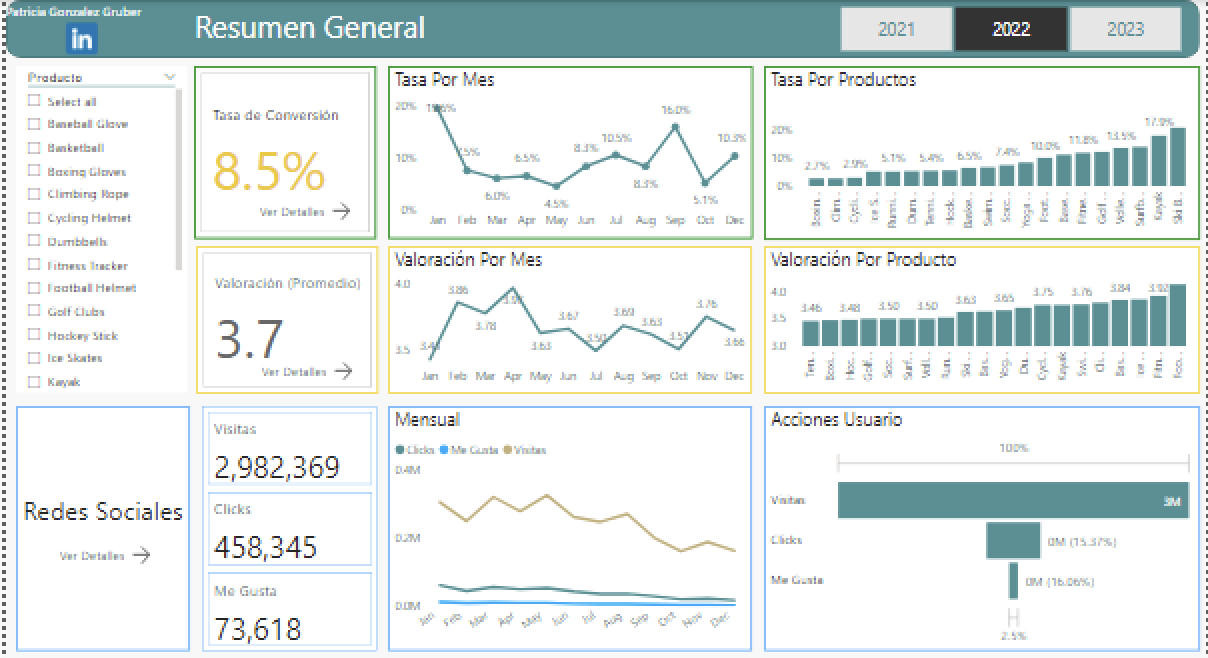

What the dashboard file says about the page in this screenshot:
{"tool":"powerbi","page":{"name":"General","canvas":[1280,720],"ordinal":0},"visuals":[{"type":"shape","box":[0,0,1275.1,61.8],"z":0},{"type":"slicer","fields":{"Values":["dim_products.ProductName"]},"box":[11,71,183.1,348.8],"z":1000},{"type":"cardVisual","fields":{"Data":["Measures Table.Convertion Rate"]},"box":[201.8,70.6,195.1,185],"z":2000},{"type":"cardVisual","fields":{"Data":["Measures Table.Average Rating"]},"box":[202,262.4,195.1,158],"z":3000},{"type":"cardVisual","fields":{"Data":["Measures Table.Views","Measures Table.Clicks","Measures Table.Likes"]},"box":[208.6,434,188.4,262.4],"z":4000},{"type":"slicer","fields":{"Values":["Calendar.Year"]},"box":[864.9,0,415.1,61.6],"z":5000},{"type":"lineChart","title":"Tasa Por Mes","fields":{"Y":["Measures Table.Convertion Rate"],"Category":["Calendar.MonthNameShort"]},"box":[408.7,70.6,390.2,185],"z":6000},{"type":"columnChart","title":"Tasa Por  Productos","fields":{"Category":["dim_products.ProductName"],"Y":["Measures Table.Convertion Rate"]},"box":[809.7,71,465.6,186.2],"z":7000},{"type":"funnel","title":"Acciones Usuario","fields":{"Y":["Measures Table.Views","Measures Table.Clicks","Measures Table.Likes"]},"box":[809,434,465.9,262.4],"z":8000},{"type":"lineChart","title":"Valoración Por  Mes","fields":{"Category":["Calendar.MonthNameShort"],"Y":["Measures Table.Average Rating"]},"box":[408.7,262.4,388.5,158.1],"z":9000},{"type":"lineChart","title":"Mensual","fields":{"Category":["Calendar.MonthNameShort"],"Y":["Measures Table.Clicks","Measures Table.Likes","Measures Table.Views"]},"box":[408.7,434,388.5,262.4],"z":10000},{"type":"columnChart","title":"Valoración Por Producto","fields":{"Category":["dim_products.ProductName"],"Y":["Measures Table.Average Rating"]},"box":[809.1,262.3,466.2,158],"z":11000},{"type":"textbox","box":[11,434,186.2,262],"z":12000},{"type":"actionButton","title":"Ver Detalles","box":[268,199.1,118.5,50.6],"z":13000},{"type":"actionButton","title":"Ver Detalles","box":[268.6,369.8,118.5,50.6],"z":14000},{"type":"actionButton","title":"Ver Detalles","box":[53.7,565.7,118.5,50.6],"z":15000},{"type":"textbox","box":[196.8,0,272.5,70.6],"z":16000},{"type":"image","title":"Patricia Gonzalez Gruber","box":[53.6,6.9,30.2,33],"z":17000},{"type":"image","box":[1.4,0,52.2,45.3],"z":18000}]}

Visuals, with their boxes in screenshot pixels (x1, y1, x2, y2):
shape: [6,0,1197,55]
slicer - dim_products.ProductName: [17,63,188,389]
cardVisual - Measures Table.Convertion Rate: [195,63,377,235]
cardVisual - Measures Table.Average Rating: [195,242,377,389]
cardVisual - Measures Table.Views x Measures Table.Clicks: [201,402,377,647]
slicer - Calendar.Year: [814,0,1201,54]
"Tasa Por Mes" lineChart: [388,63,752,235]
"Tasa Por  Productos" columnChart: [762,63,1197,237]
"Acciones Usuario" funnel: [762,402,1197,647]
"Valoración Por  Mes" lineChart: [388,242,751,389]
"Mensual" lineChart: [388,402,751,647]
"Valoración Por Producto" columnChart: [762,242,1197,389]
textbox: [17,402,190,647]
"Ver Detalles" actionButton: [257,183,367,230]
"Ver Detalles" actionButton: [257,342,368,389]
"Ver Detalles" actionButton: [56,525,167,572]
textbox: [190,0,444,63]
"Patricia Gonzalez Gruber" image: [56,3,85,34]
image: [8,0,56,39]
